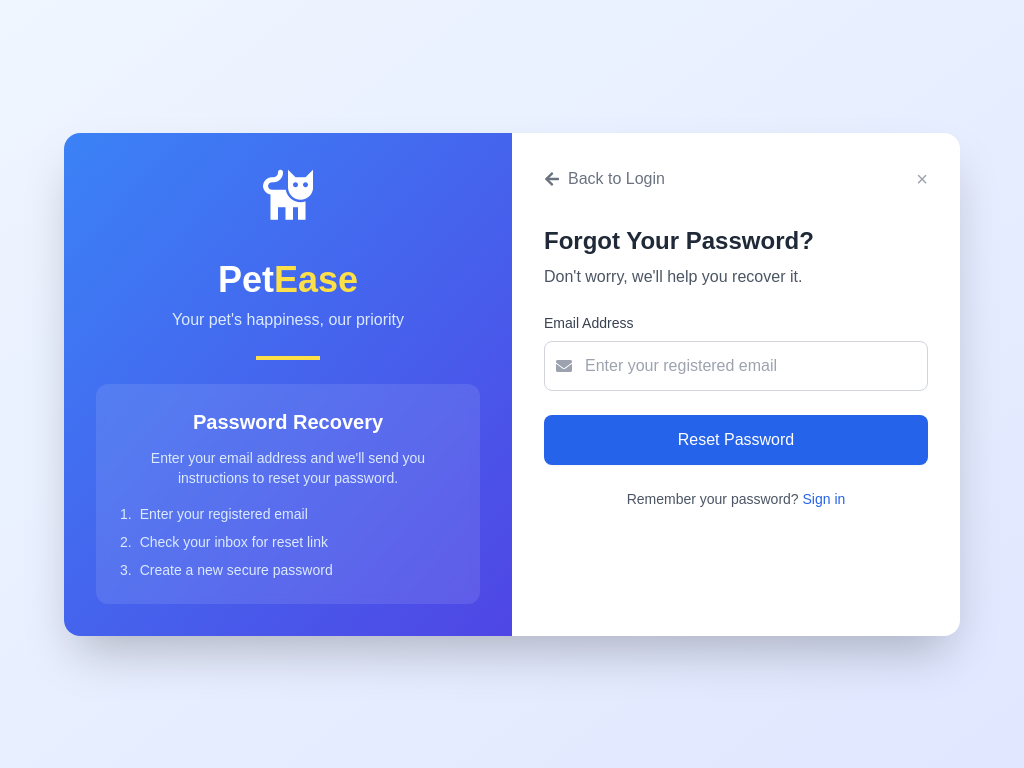
Forgot Password Page › should handle network errors
This screenshot has width=1024, height=768.
Type "valid@example.com" into the field labelled "Email Address" at (736, 366), box [544,341,928,391]
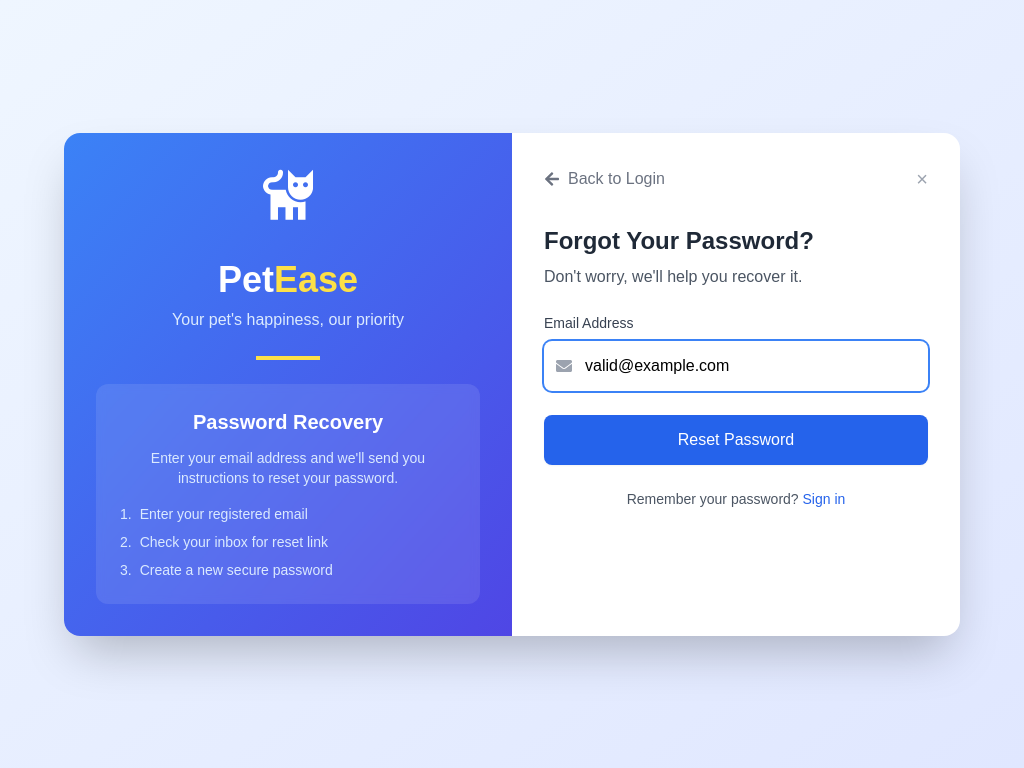
Click the submit button at (736, 440), box [544,415,928,465]
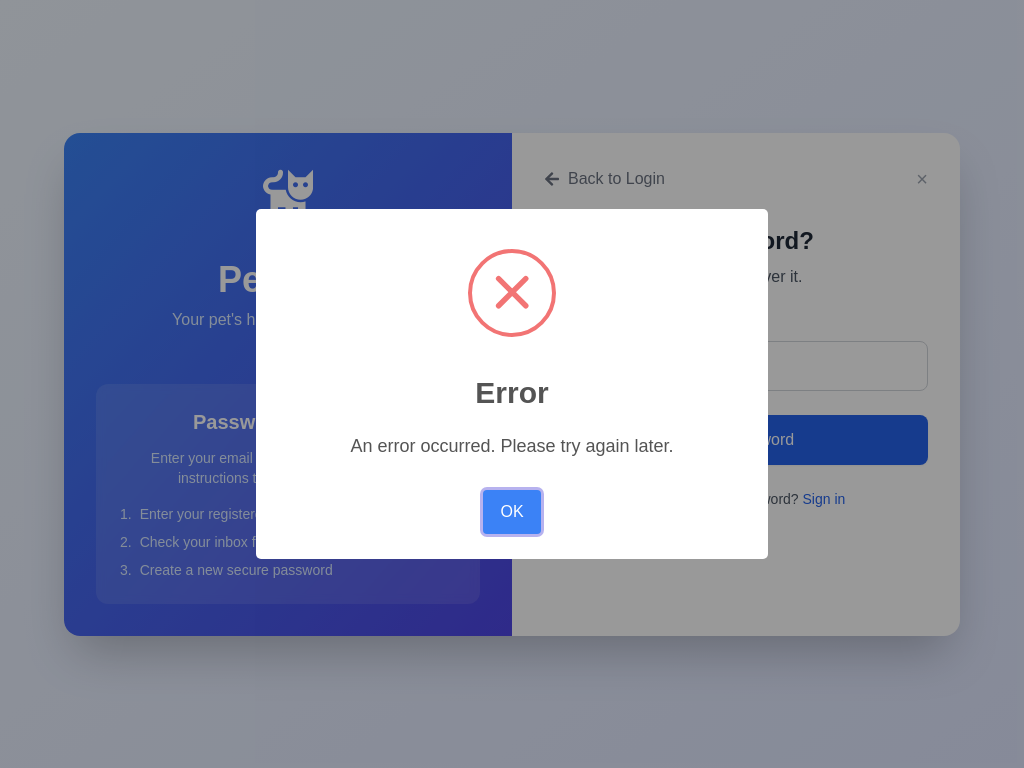
Expected: the dialog with class "swal2-popup" is shown, [256,209,768,560]
Expected: the text with class "swal2-html-container" shows "Please try again later", [350,436,673,456]
